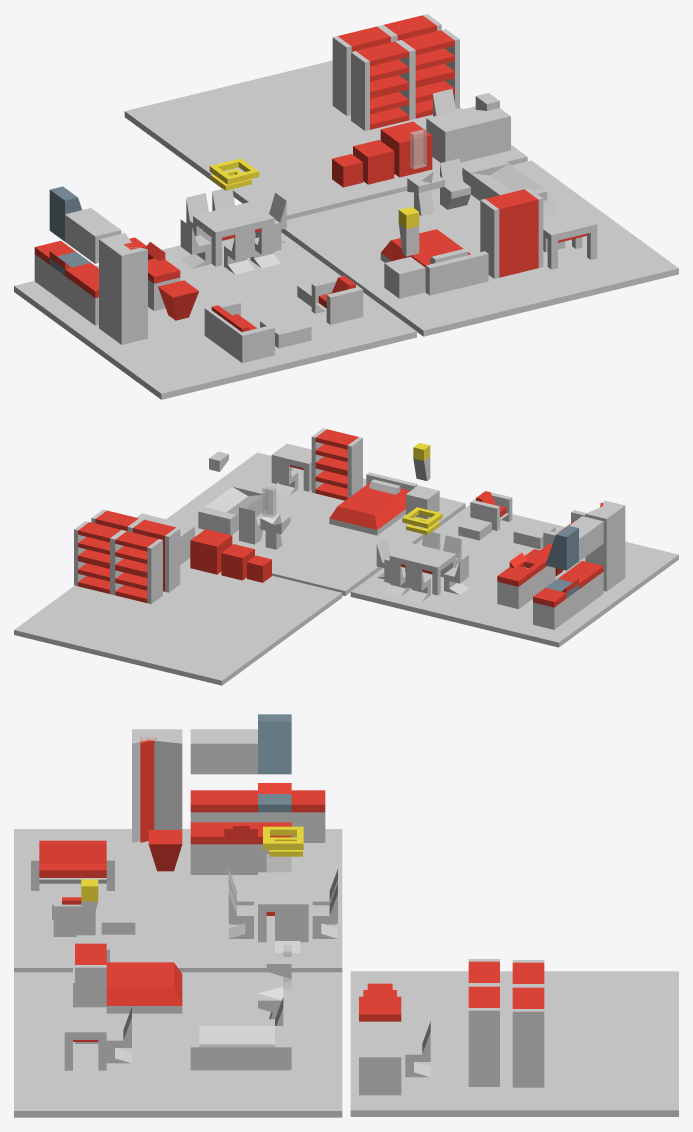
The model's file is homestuff-1-by-yogoshimo-2-0-2VKFPjBuDR-.glb.
3 renders of one model, top to bottom at view 1: azimuth 30°, elevation 25°; view 2: azimuth 150°, elevation 25°; view 3: azimuth 270°, elevation 25°, orthographic. The views are drawn at different scales.
Parts seen in each view (by area): view 1: group1645315622, group1492493790, group1734145402, group1690158088, group77782183, group1254298930, group227961828, group224832701, group1791125941, group2040458102, group1820727250, group432782035 (+21 smaller); view 2: group1492493790, group1734145402, group1645315622, group2040458102, group77782183, group1791125941, group1254298930, group1690158088, group1820727250, group495884990, group432782035, group1819774337 (+23 smaller); view 3: group1645315622, group1492493790, group1734145402, group77782183, group2040458102, group1254298930, group1690158088, group1791125941, group227961828, group224832701, group432782035, group495884990 (+21 smaller).
Boxes of the visible parts, x1,y1,x2,y2 form: group1645315622: [281, 160, 678, 336]; group1492493790: [124, 60, 527, 219]; group1734145402: [14, 232, 416, 399]; group1690158088: [351, 29, 459, 130]; group77782183: [407, 93, 547, 215]; group1254298930: [99, 233, 147, 344]; group227961828: [204, 300, 311, 363]; group224832701: [426, 106, 510, 162]; group1791125941: [380, 229, 488, 295]; group2040458102: [332, 14, 441, 115]; group1820727250: [480, 188, 543, 245]; group432782035: [193, 201, 274, 266]; group1492493790: [14, 558, 342, 685]; group1734145402: [350, 504, 678, 647]; group1645315622: [166, 452, 465, 595]; group2040458102: [74, 521, 162, 603]; group77782183: [198, 451, 290, 549]; group1791125941: [329, 472, 417, 535]; group1254298930: [585, 500, 625, 591]; group1690158088: [91, 509, 180, 592]; group1820727250: [311, 428, 362, 475]; group495884990: [458, 491, 512, 540]; group432782035: [389, 542, 456, 595]; group1819774337: [311, 463, 362, 500]; group1645315622: [14, 972, 342, 1117]; group1492493790: [350, 971, 678, 1116]; group1734145402: [14, 829, 342, 972]; group77782183: [190, 944, 291, 1070]; group2040458102: [512, 960, 544, 1087]; group1254298930: [132, 729, 182, 842]; group1690158088: [468, 959, 499, 1086]; group1791125941: [73, 951, 182, 1013]; group227961828: [31, 840, 114, 919]; group224832701: [359, 1021, 401, 1095]; group432782035: [258, 872, 308, 942]; group495884990: [53, 888, 135, 936].
Size of the model in its own units: 0.79 by 0.17 by 0.79.
